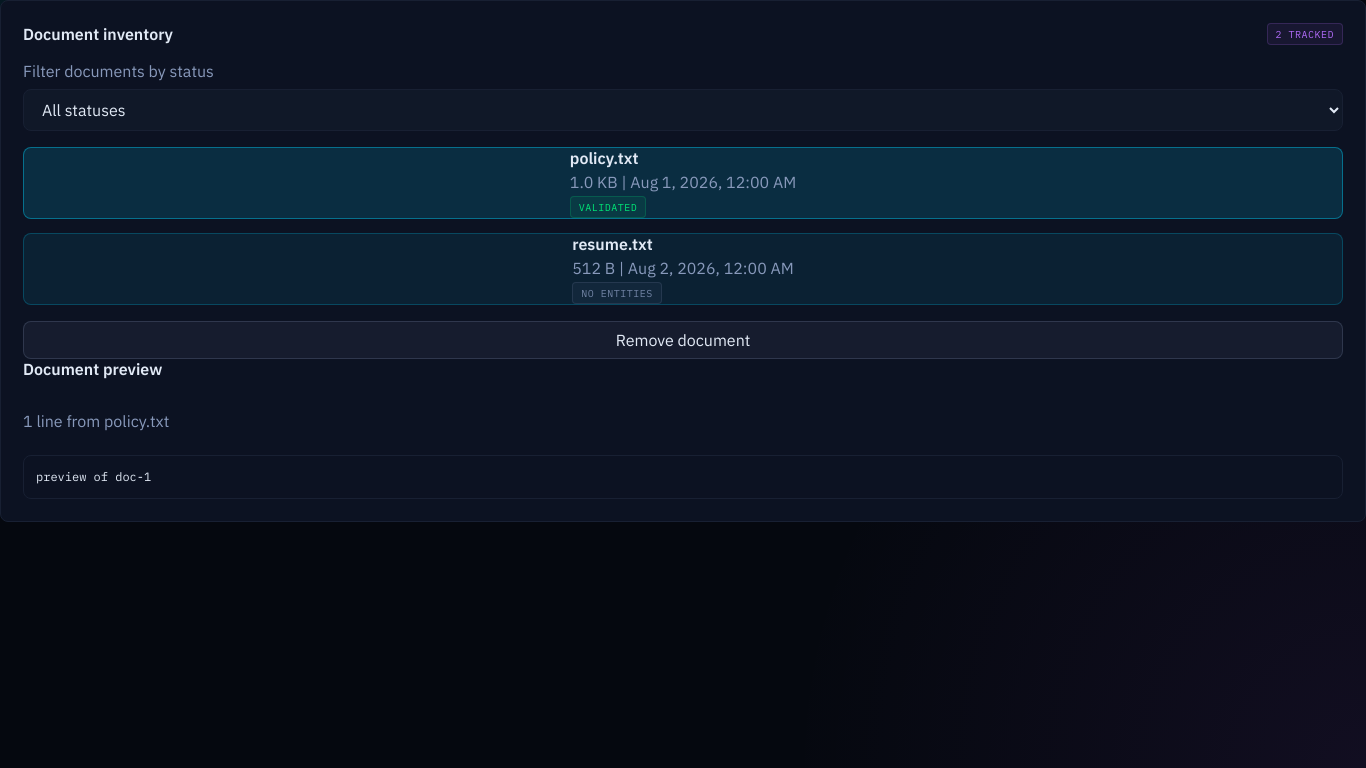
it: DataSection › filters by the durable lifecycle status
Expected: the text "policy.txt" is shown, [570,148,638,168]
Select "No entities" in the dropdown labelled "Filter documents by status" at (683, 110), box [23,89,1343,131]
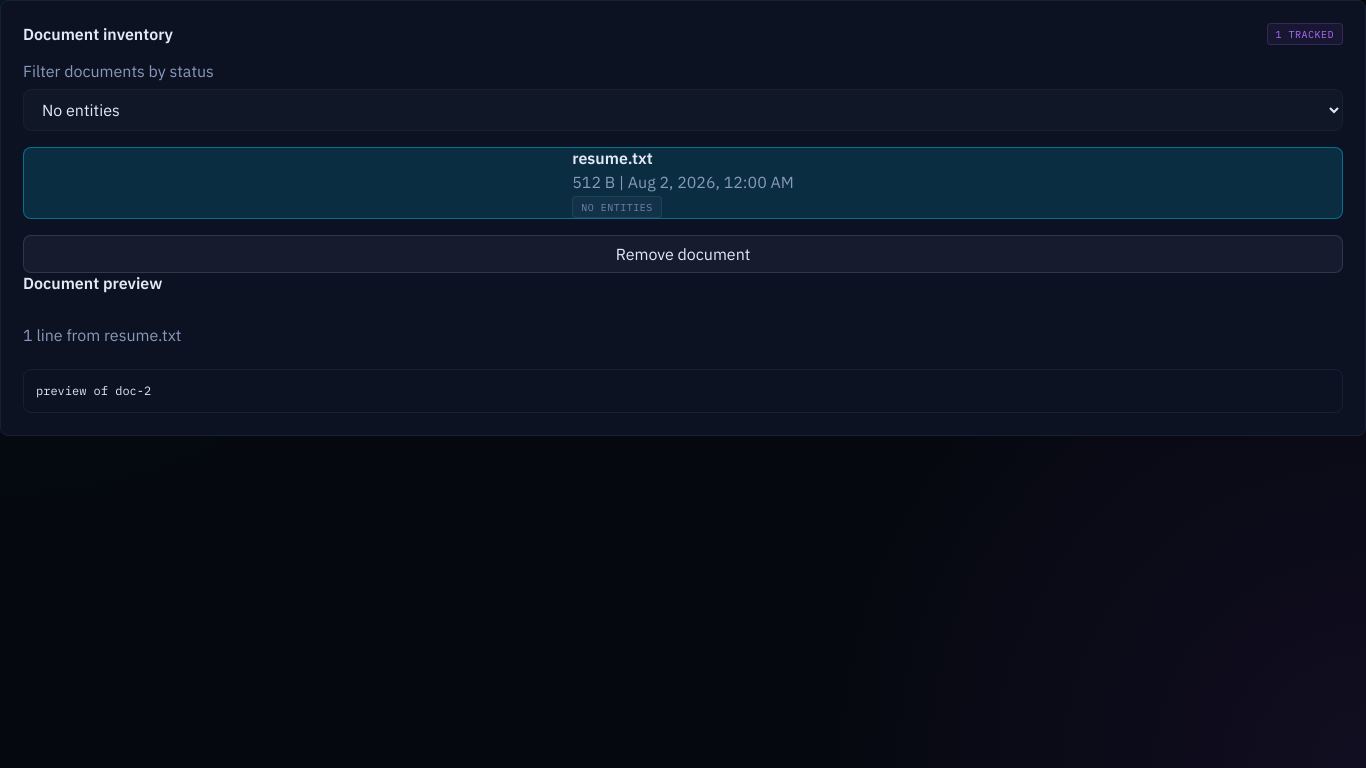
Expected: the text "resume.txt" is shown, [572,148,653,168]
Expected: the button "policy.txt" is gone
